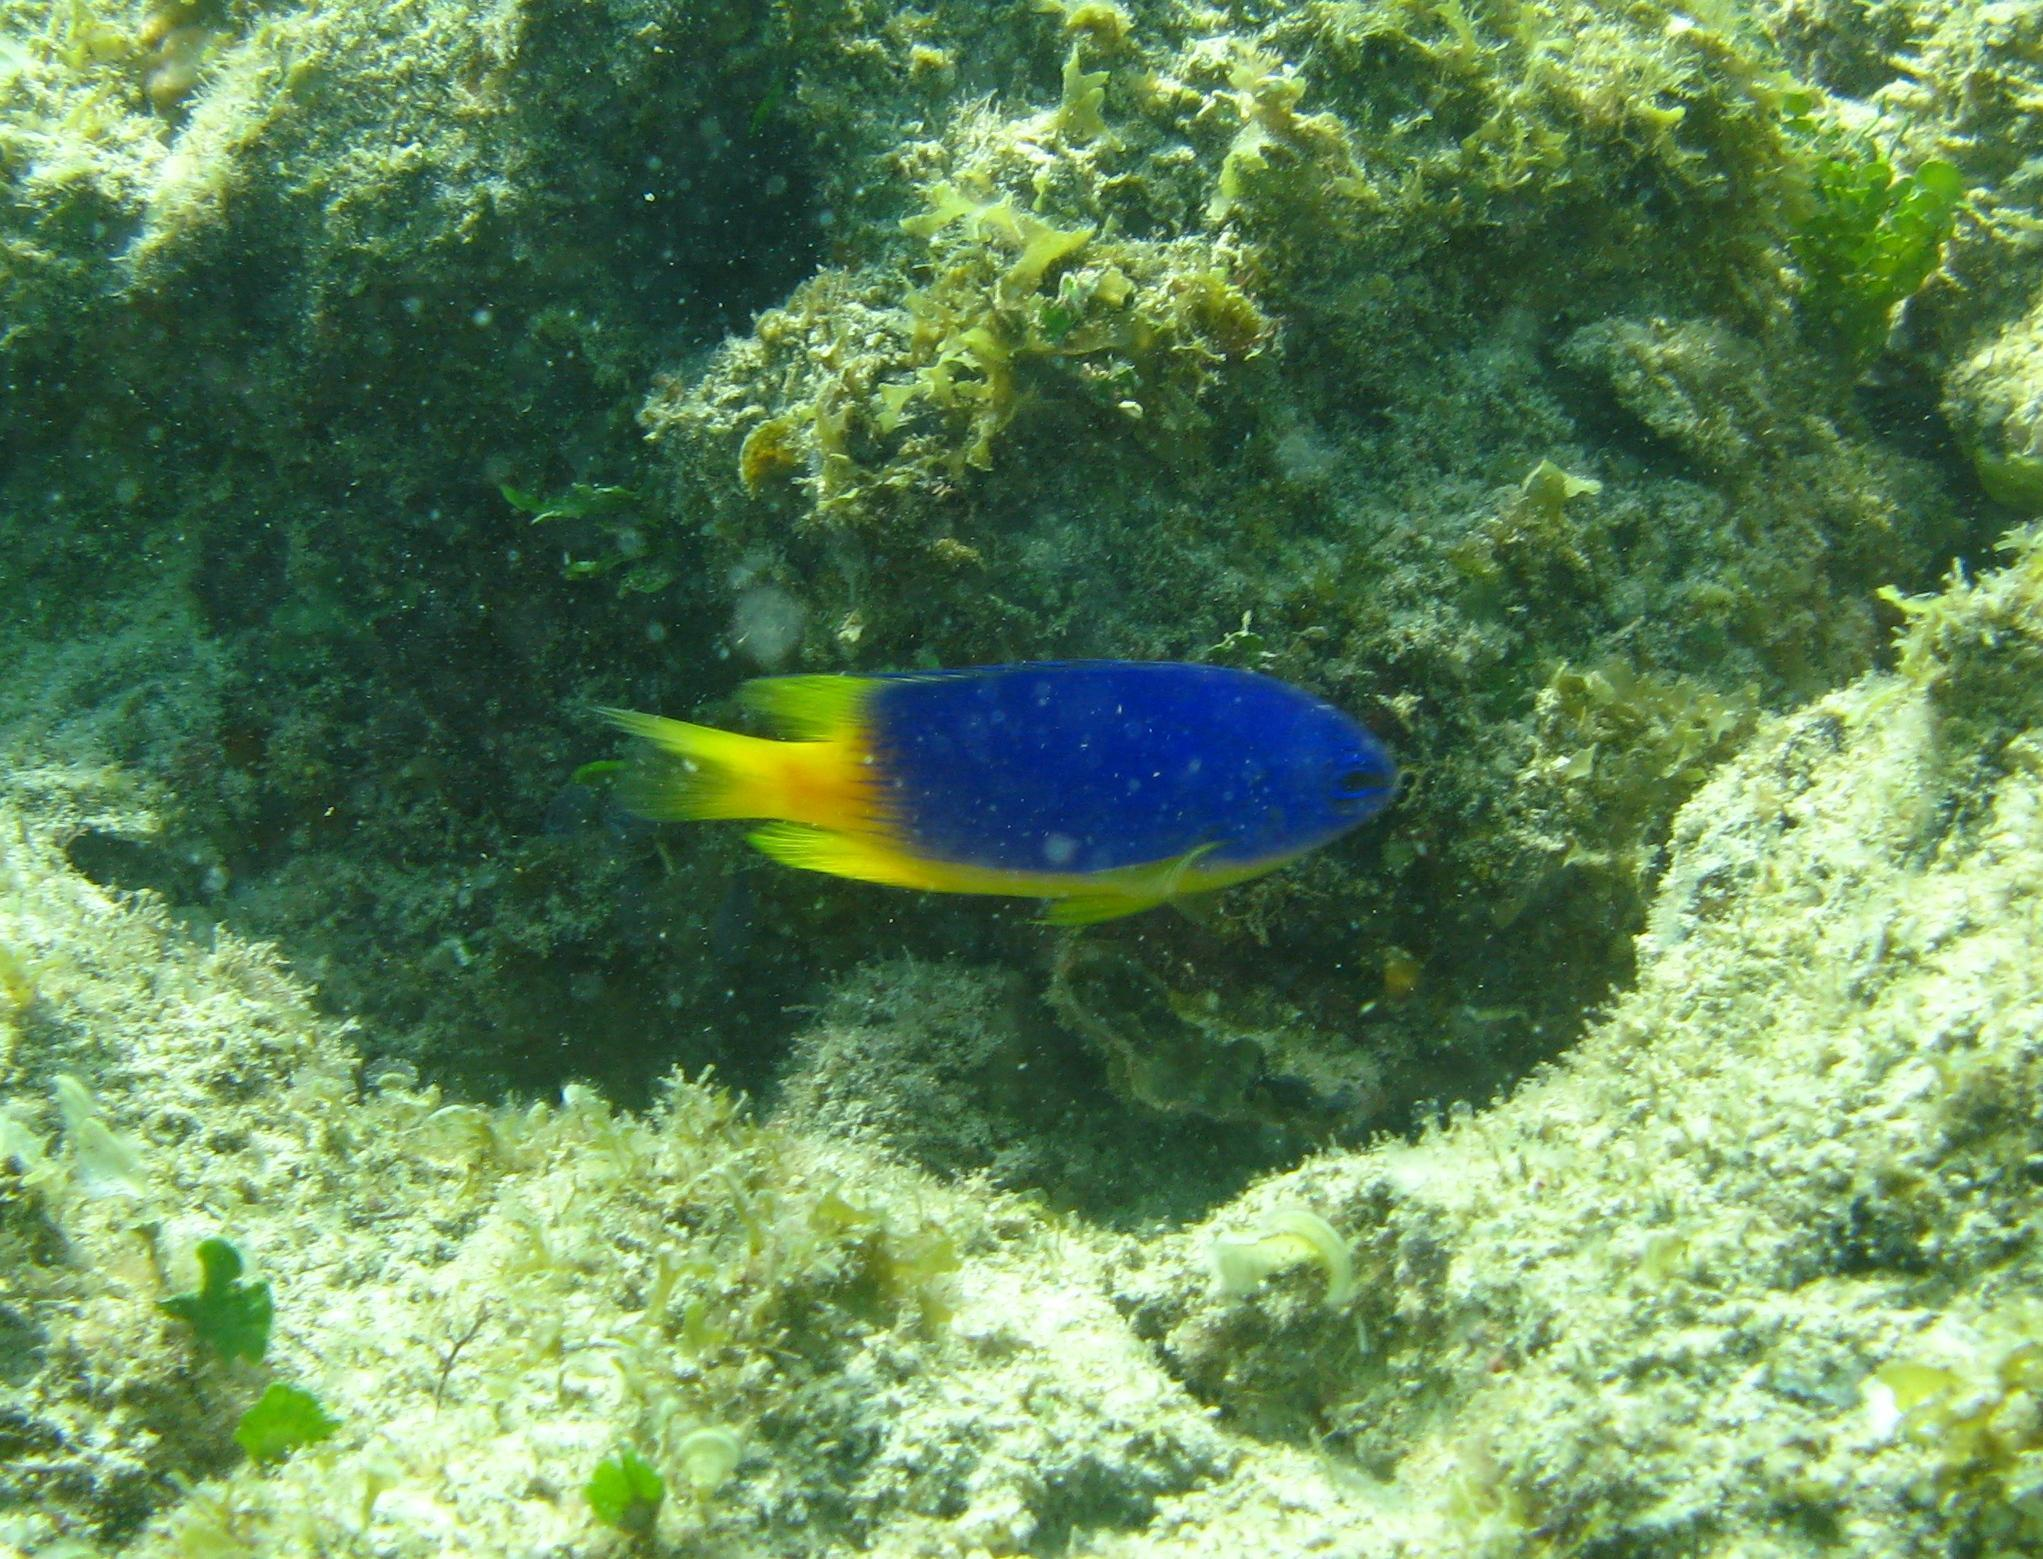Fish: (580, 642, 1418, 943)
